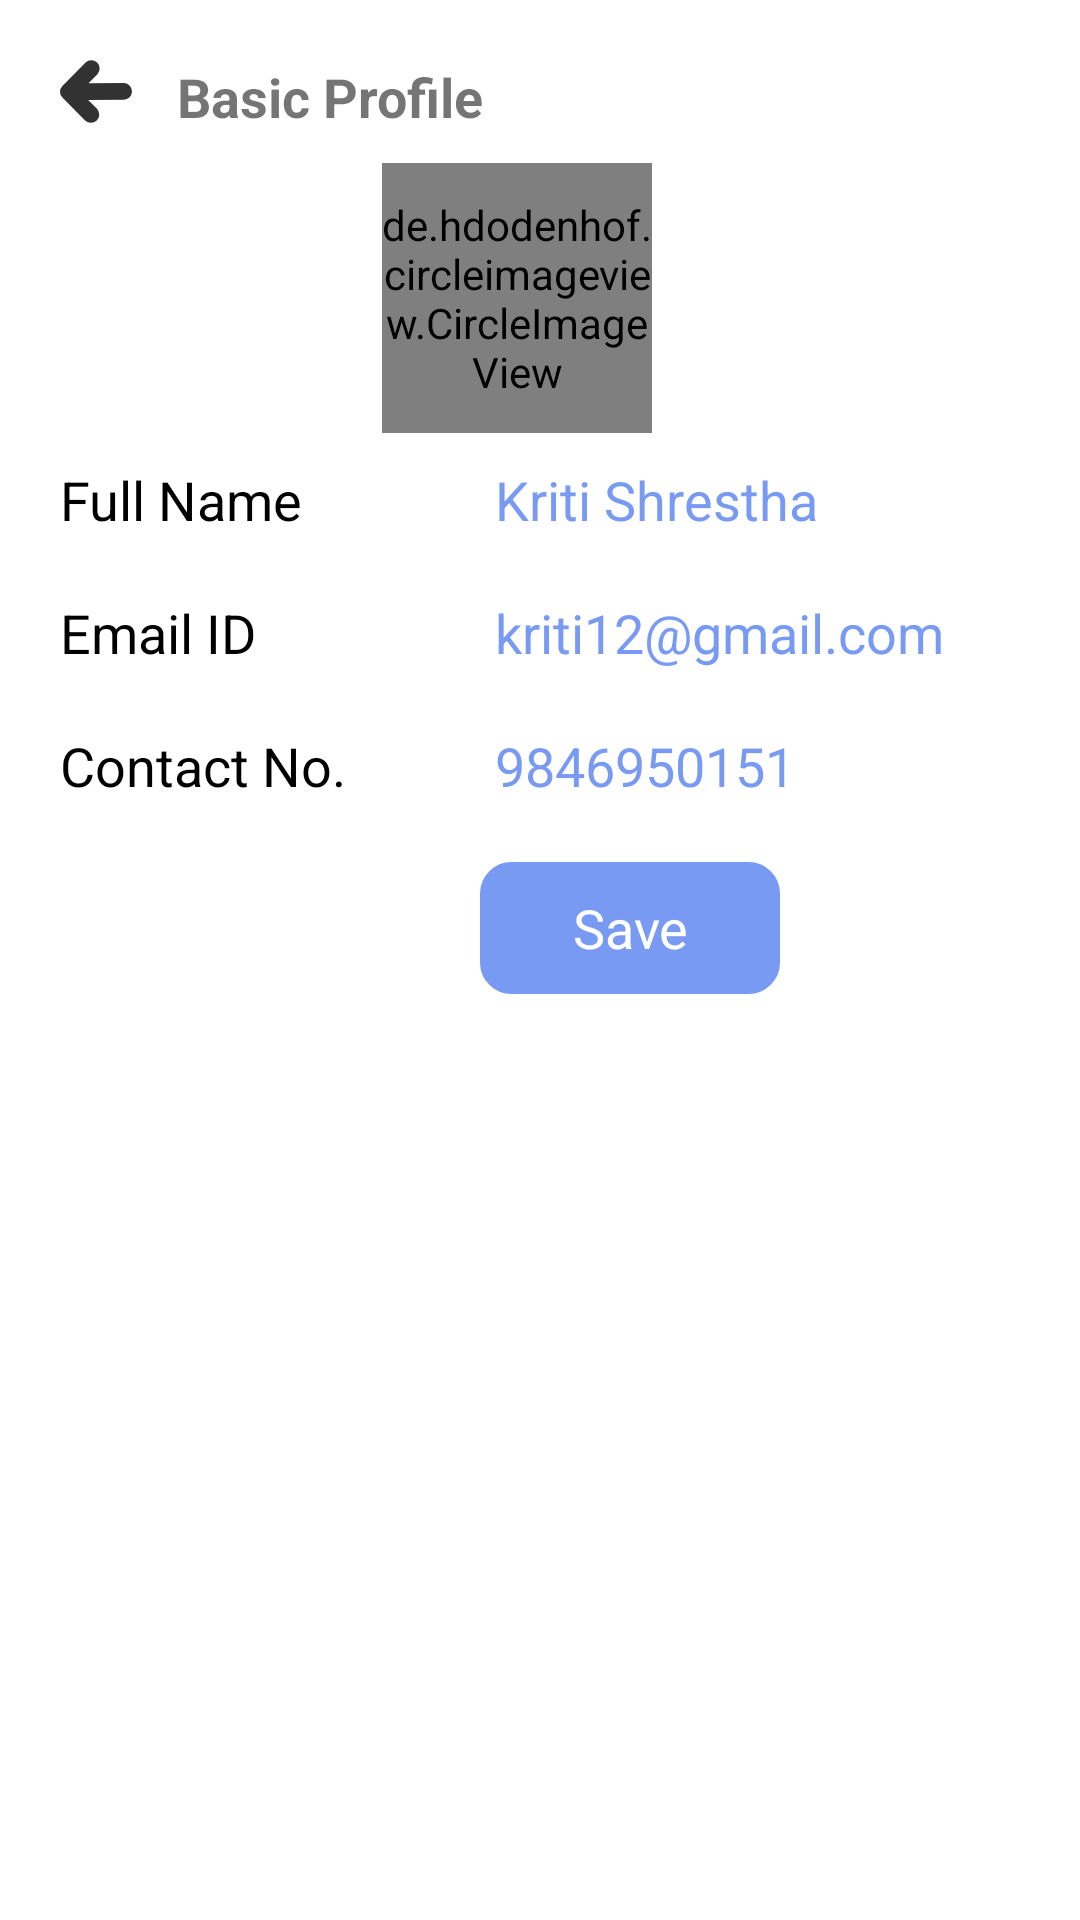

Icons on this 1080 × 1920 Android screen, each with the point to tap as [x,y]:
back arrow: [96,91]
